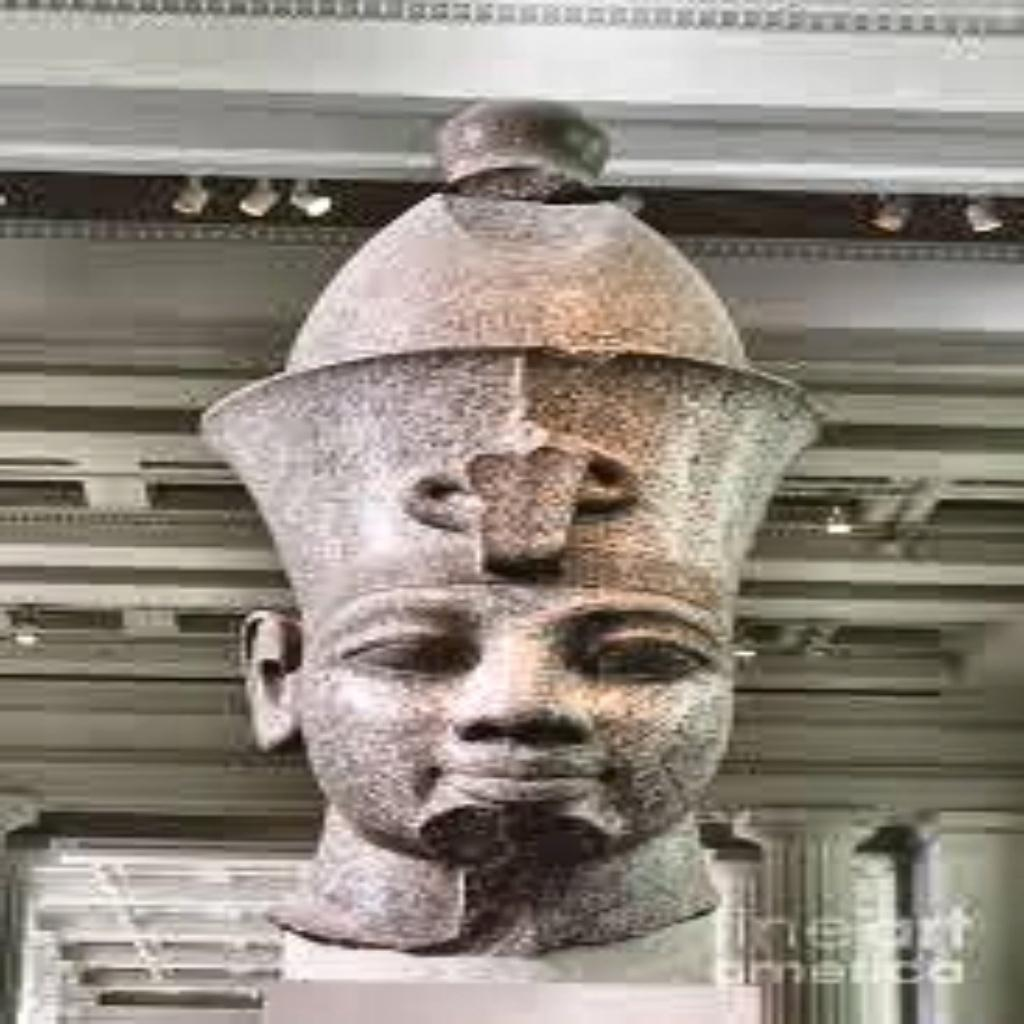Head Statue of Amenhotep iii: (190, 97, 828, 972)
